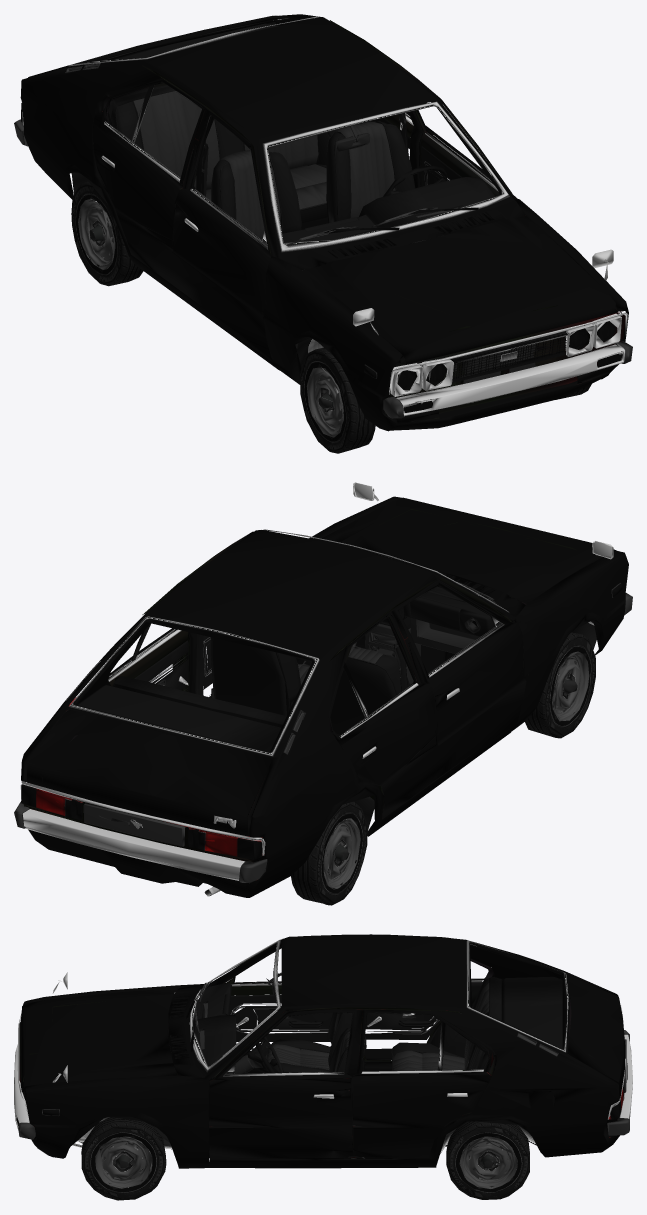
Rendered from hyundai_pony.glb.
The picture shows the model from 3 angles, top to bottom: view 1: azimuth 30°, elevation 25°; view 2: azimuth 150°, elevation 25°; view 3: azimuth 270°, elevation 25°; orthographic projection. The views are drawn at different scales.
Visible parts, largest first — view 1: object 1, object 4; view 2: object 1, object 4; view 3: object 1, object 4.
Boxes of the visible parts, <box> form: object 1: <box>14,14,632,431</box>; object 4: <box>71,181,591,453</box>; object 1: <box>14,482,632,897</box>; object 4: <box>291,632,595,905</box>; object 1: <box>14,934,632,1168</box>; object 4: <box>81,1117,529,1200</box>.
Size of what is drawn, in the model's own units: 1.57 by 1.31 by 3.95.
Materials: 13 (10 with a texture image).
